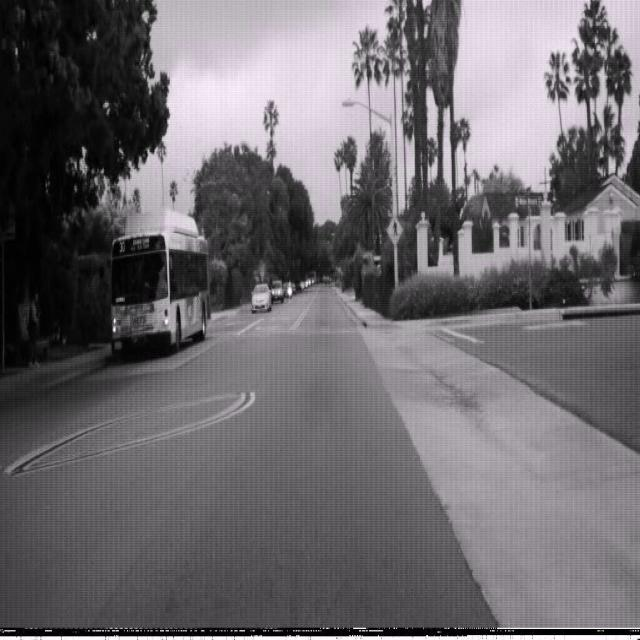pedestrianCrossing: (386, 213, 403, 248)
